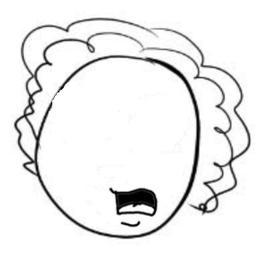open_mouth: (106, 180, 159, 218)
